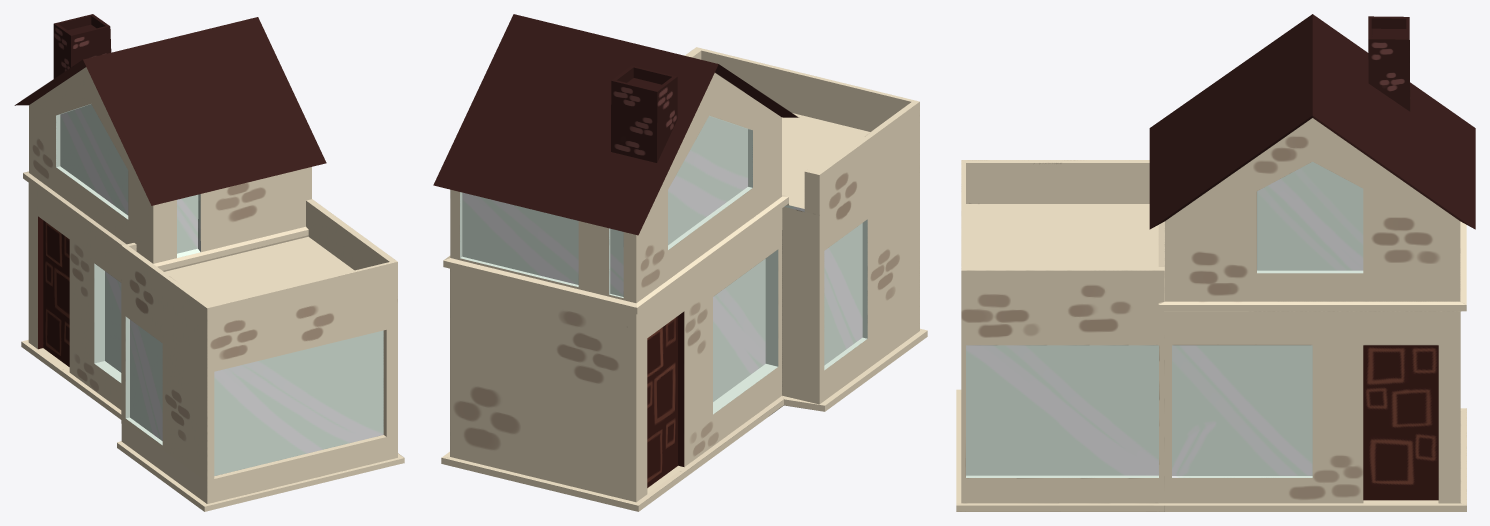
Rendered from House Medium.fbx.
3 renders of one model, left to right at view 1: azimuth 30°, elevation 25°; view 2: azimuth 150°, elevation 25°; view 3: azimuth 270°, elevation 25°, orthographic. The views are drawn at different scales.
Visible parts, largest first — view 1: House, Roof, Windows, Doors; view 2: House, Roof, Windows, Doors; view 3: House, Windows, Roof, Doors.
Boxes of the visible parts, x1,y1,x2,y2 form: House: [21, 67, 404, 511]; Roof: [14, 14, 326, 205]; Windows: [56, 104, 383, 475]; Doors: [38, 216, 69, 366]; House: [441, 47, 927, 511]; Roof: [433, 14, 798, 235]; Windows: [460, 115, 867, 414]; Doors: [647, 311, 684, 487]; House: [956, 118, 1466, 511]; Windows: [966, 161, 1363, 477]; Roof: [1149, 14, 1475, 229]; Doors: [1363, 345, 1438, 500].
Bounding box in the file's own units: 508 × 810 × 946.
